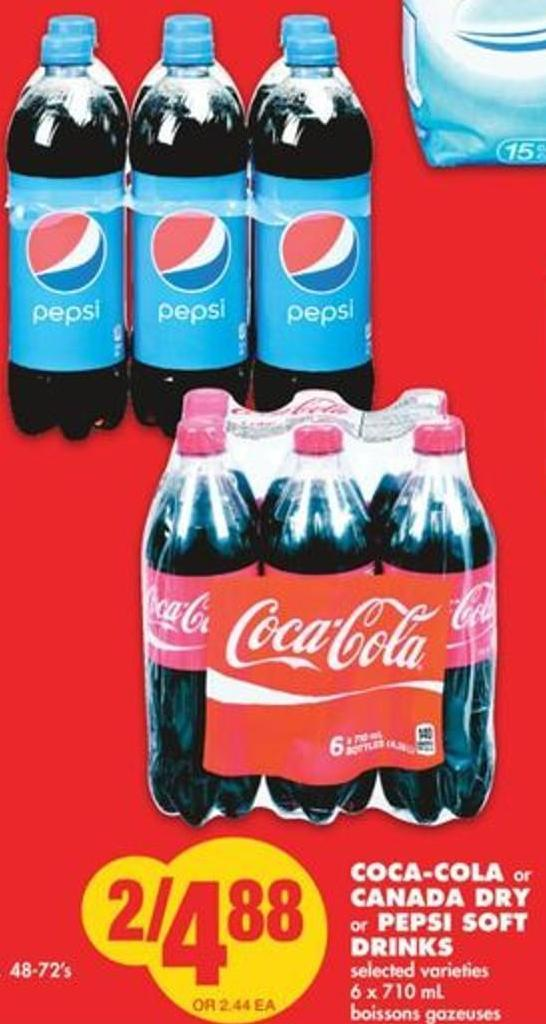pepsi: (276, 207, 358, 293), (26, 207, 105, 292), (153, 203, 228, 290)
